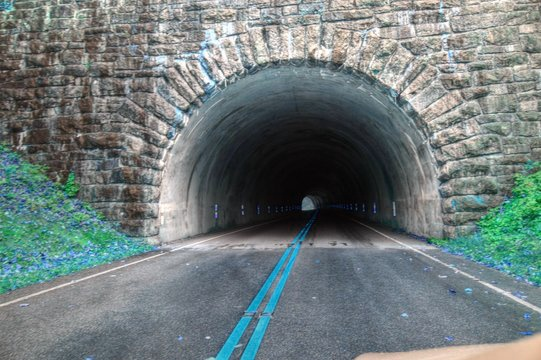Real_Tunnel: (140, 43, 469, 256)
